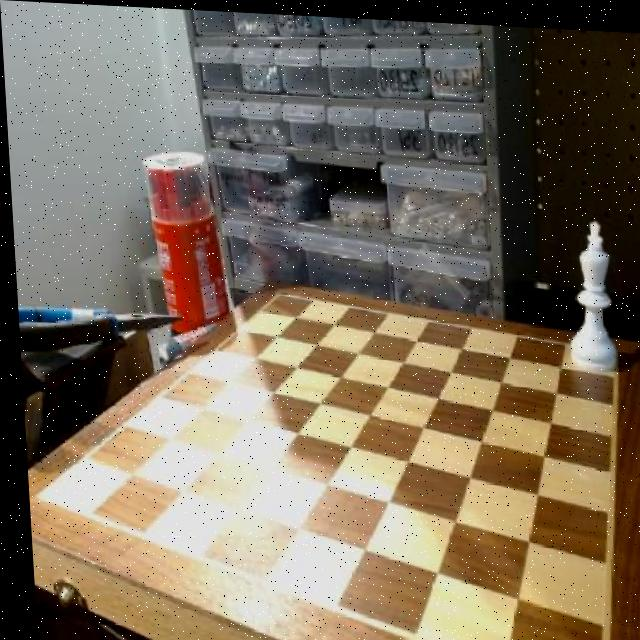white-bishop: (558, 208, 616, 367)
